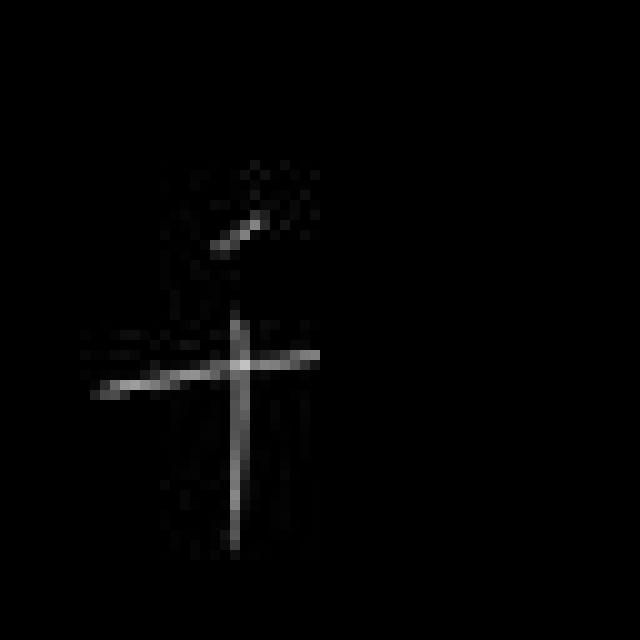1000 -a thousand-: (92, 210, 328, 567)
